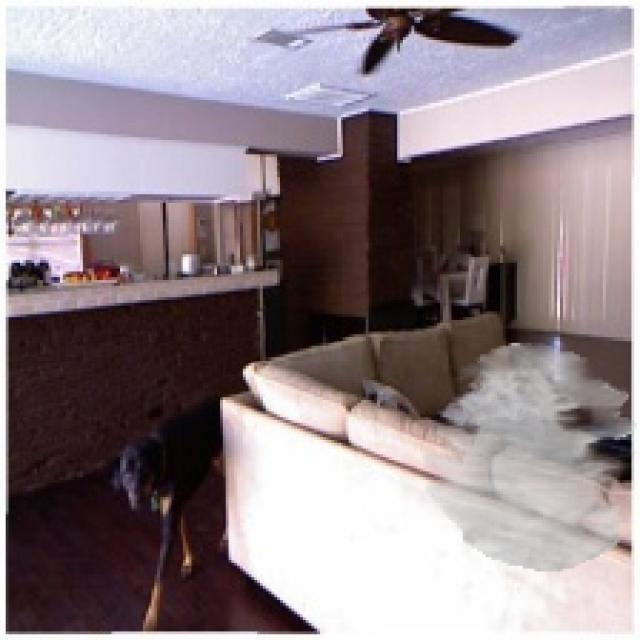Smoke: (422, 343, 638, 571)
